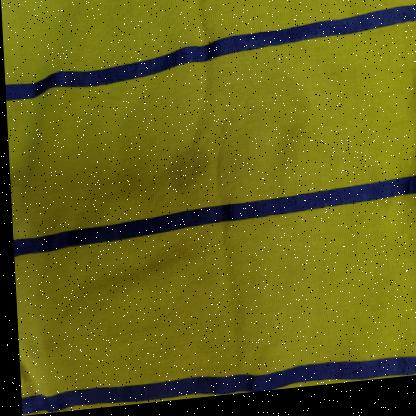spot: (164, 147, 216, 200)
